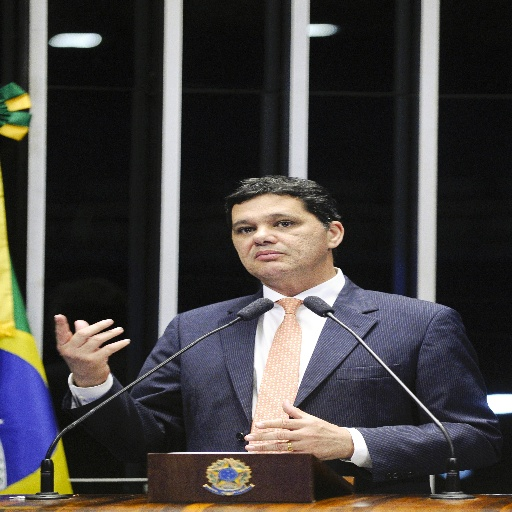hand: (240, 397, 352, 463), (56, 308, 139, 368)
